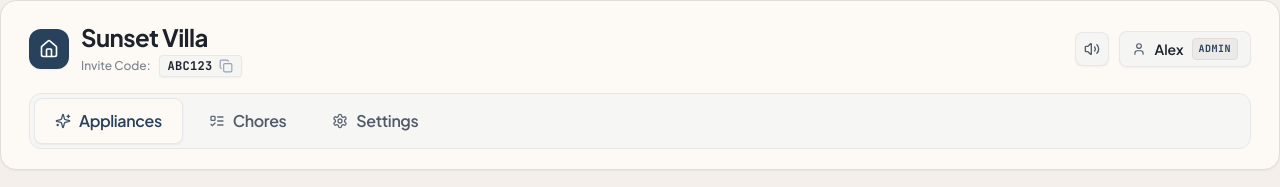
Test: Header Component › renders audio mute toggle button and toggles sound mute state on click
Click the button named "mute audio feedback" at (1092, 49), box [1075,32,1109,66]
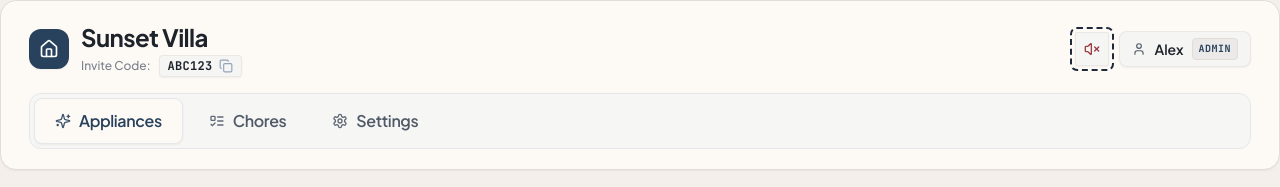
Now the button named "unmute audio feedback" is shown, box [1075,32,1109,66]
